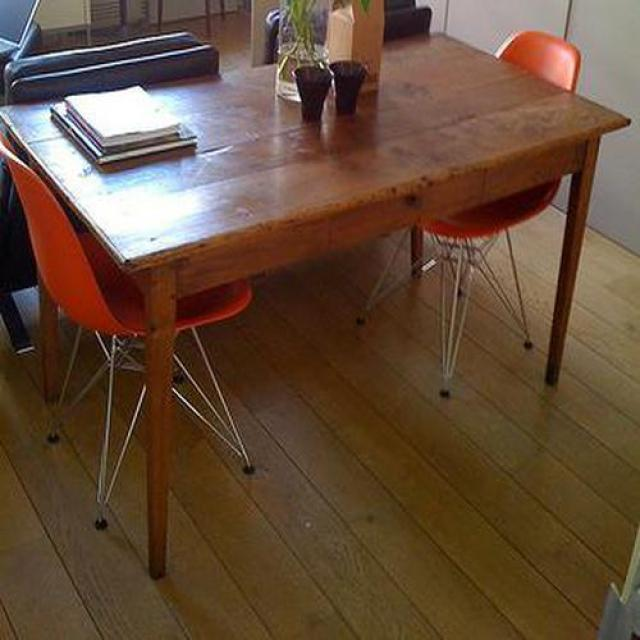table: (0, 33, 632, 582)
